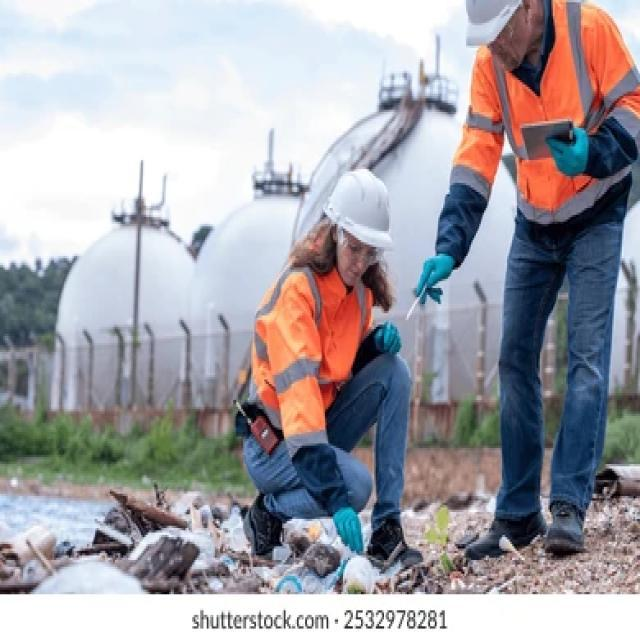gloved_hand: (412, 251, 461, 307), (545, 121, 589, 180), (329, 505, 371, 558), (373, 318, 405, 358)
